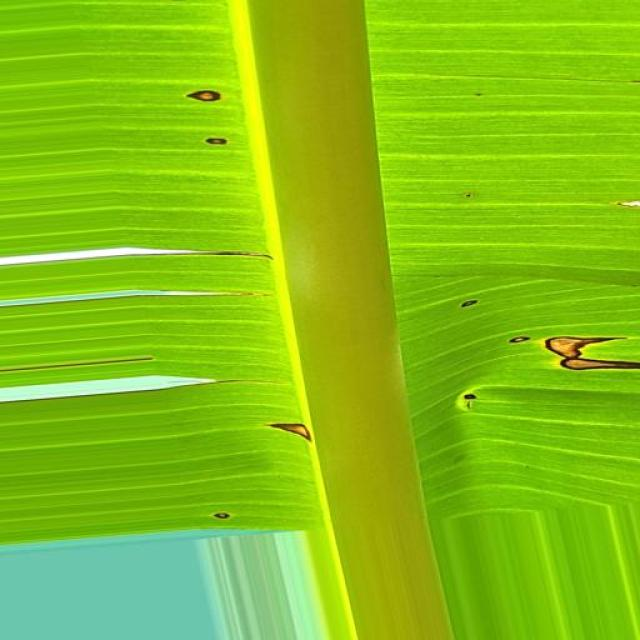Early_rust: (445, 278, 640, 437), (175, 61, 242, 169), (255, 388, 327, 474), (196, 498, 249, 536)
